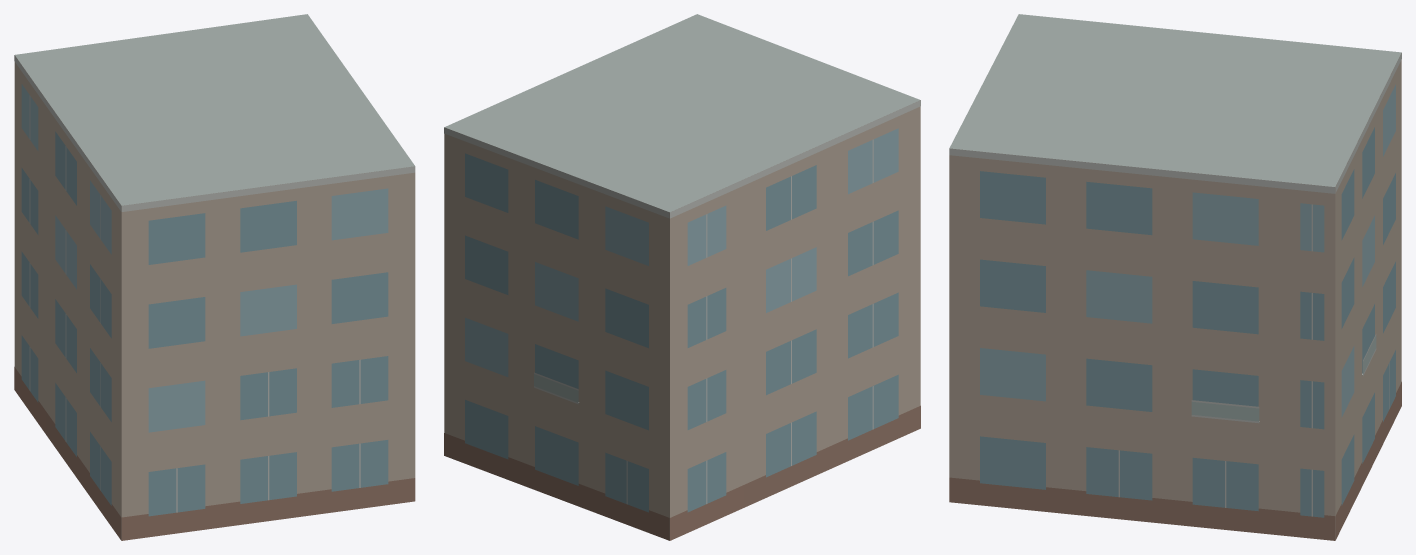
The model's file is survey-upis-32663566.glb.
The picture shows the model from 3 angles, left to right: view 1: azimuth 30°, elevation 25°; view 2: azimuth 150°, elevation 25°; view 3: azimuth 270°, elevation 25°; orthographic projection. The views are drawn at different scales.
Parts seen in each view (by area): view 1: survey-upis-32663566.tmp; view 2: survey-upis-32663566.tmp; view 3: survey-upis-32663566.tmp.
Part boxes in pixels (x1,y1,x2,y2): survey-upis-32663566.tmp: (14, 14, 415, 540); survey-upis-32663566.tmp: (444, 14, 920, 540); survey-upis-32663566.tmp: (949, 14, 1401, 540).
Bounding box in the file's own units: 13.45 × 12.8 × 14.85.
